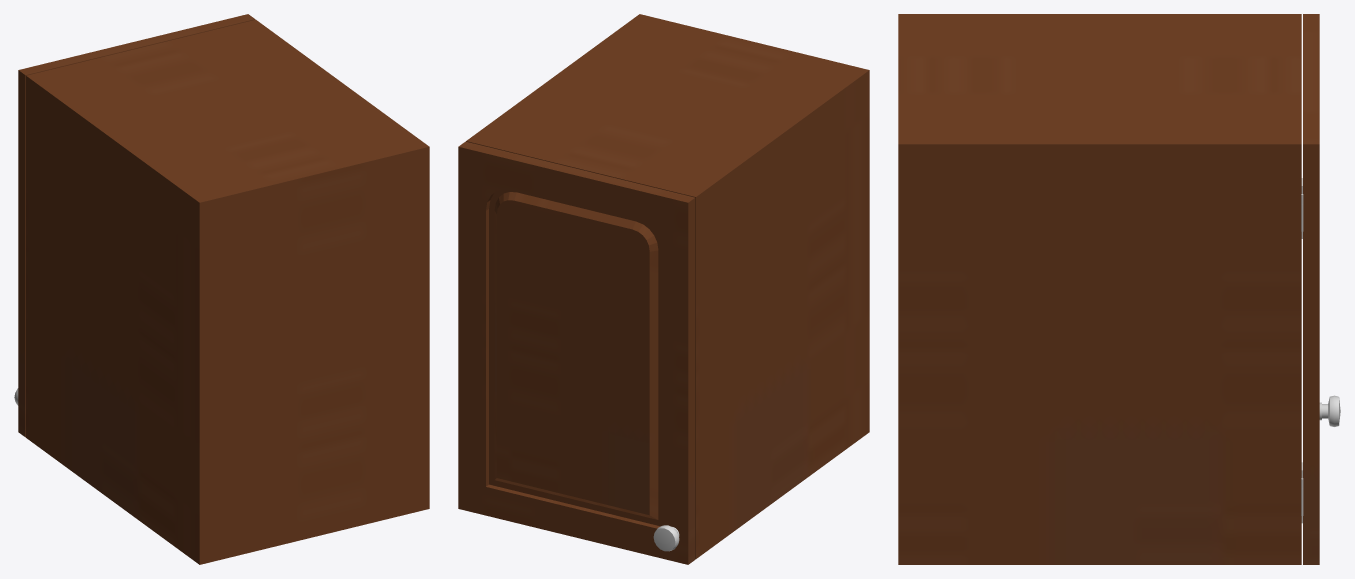
The model's file is CabinetC06.glb.
The picture shows the model from 3 angles, left to right: view 1: azimuth 30°, elevation 25°; view 2: azimuth 150°, elevation 25°; view 3: azimuth 270°, elevation 25°; orthographic projection. The views are drawn at different scales.
Parts seen in each view (by area): view 1: CabinetC06_model, CabinetC06Door; view 2: CabinetC06_model, CabinetC06Door; view 3: CabinetC06_model, CabinetC06Door.
Part boxes in pixels (left/top/right/bottom): CabinetC06_model: left=26, top=19, right=429, bottom=564; CabinetC06Door: left=14, top=14, right=255, bottom=437; CabinetC06_model: left=466, top=14, right=869, bottom=559; CabinetC06Door: left=458, top=141, right=695, bottom=564; CabinetC06_model: left=898, top=14, right=1303, bottom=564; CabinetC06Door: left=1301, top=14, right=1340, bottom=564.
Bounding box in the file's own units: 0.9256 × 1.39 × 1.32.
1 material, 1 textured.
